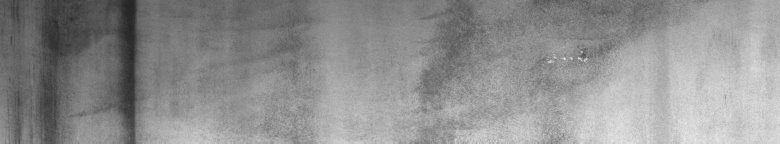ka: (8, 4, 144, 136)
